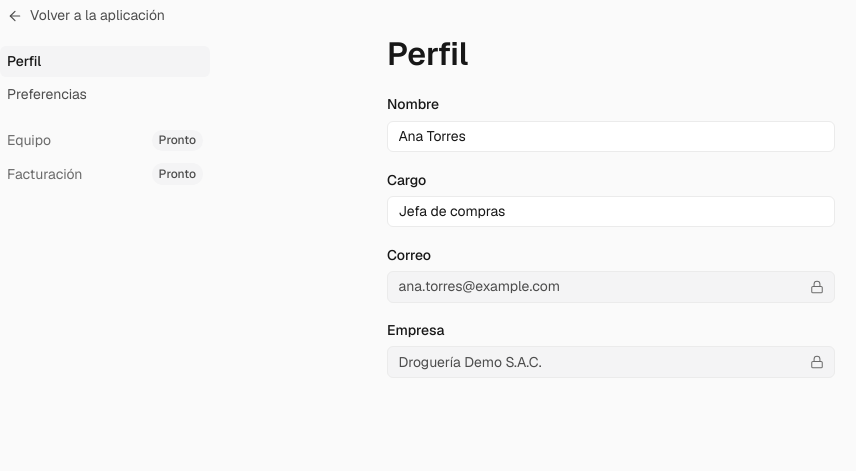
Test case: profile (settings) › does not send an empty name and says why
The width and height of the screenshot is (856, 471).
Clear the field labelled "Nombre" at [611, 136], box [398, 126, 824, 147]
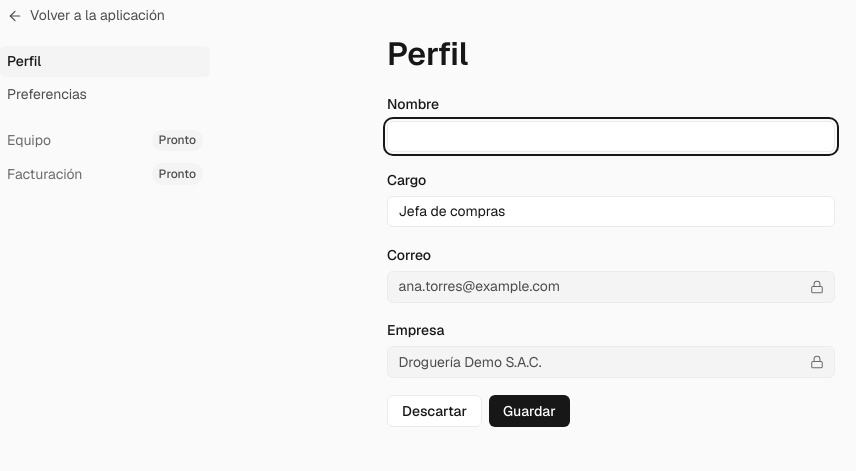
Click the button "Guardar".
click(529, 411)  # box [489, 395, 570, 427]
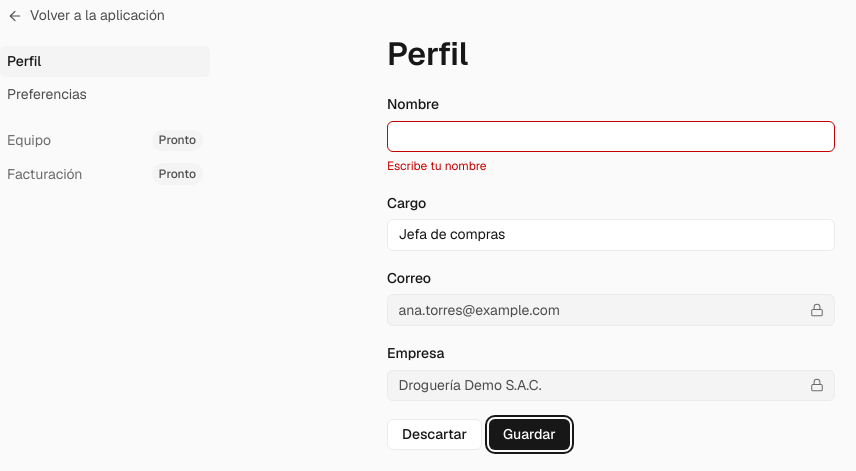
Check: the text "Escribe tu nombre" is shown, box [387, 158, 487, 174]
